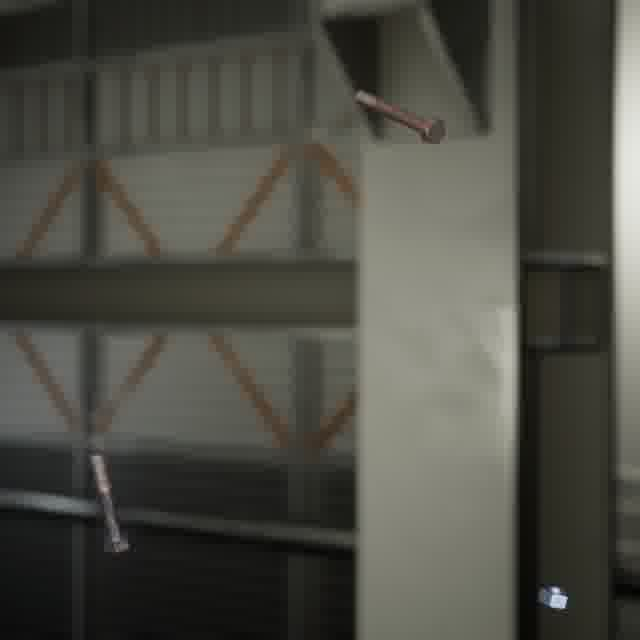bolt: (350, 85, 449, 148), (84, 446, 135, 557)
nut: (533, 581, 575, 613)
